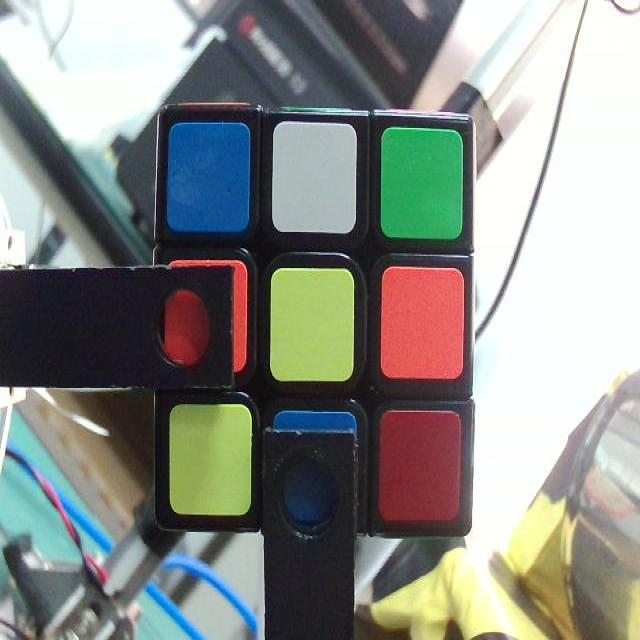b: (275, 406, 357, 523), (169, 126, 247, 227)
g: (384, 130, 461, 234)
o: (382, 270, 465, 378), (166, 262, 248, 368)
r: (380, 412, 459, 520)
w: (276, 123, 354, 229)
y: (168, 406, 250, 514), (272, 269, 352, 379)
